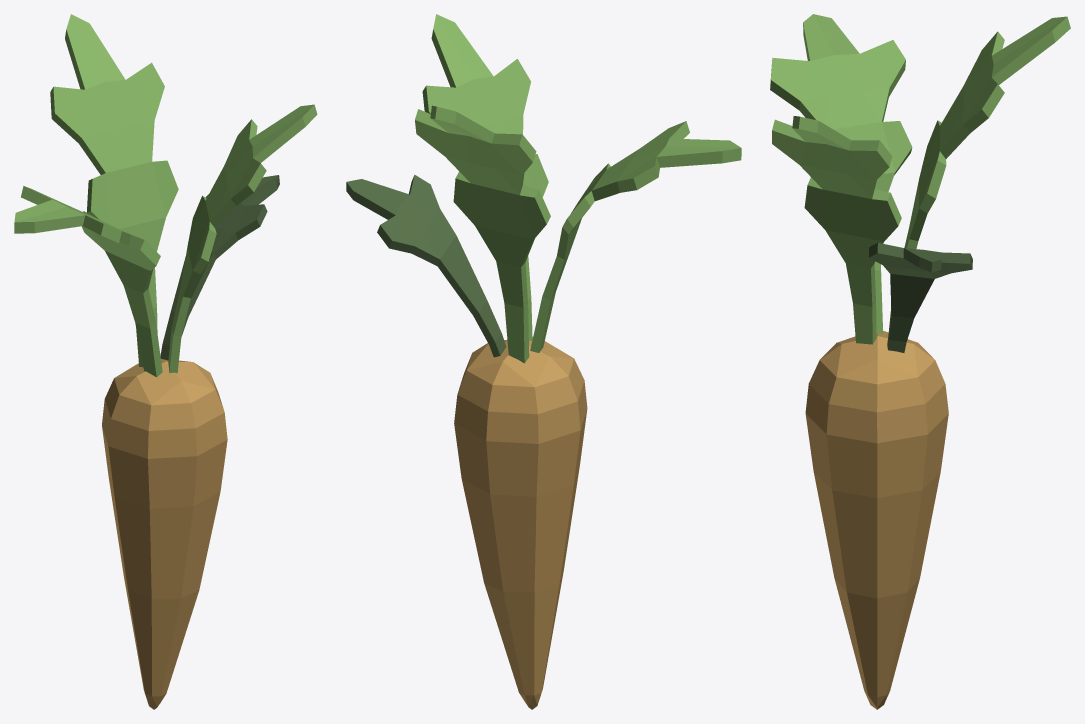
File: Carrot_4.glb
The picture shows the model from 3 angles, left to right: view 1: azimuth 30°, elevation 25°; view 2: azimuth 150°, elevation 25°; view 3: azimuth 270°, elevation 25°; orthographic projection. The views are drawn at different scales.
Parts seen in each view (by area): view 1: Carrot_4; view 2: Carrot_4; view 3: Carrot_4.
Boxes of the visible parts, left/top/right/bottom form: Carrot_4: left=14, top=14, right=317, bottom=709; Carrot_4: left=346, top=14, right=741, bottom=709; Carrot_4: left=770, top=14, right=1070, bottom=709.
Size of the model in its own units: 0.6765 by 1.28 by 0.5016.
